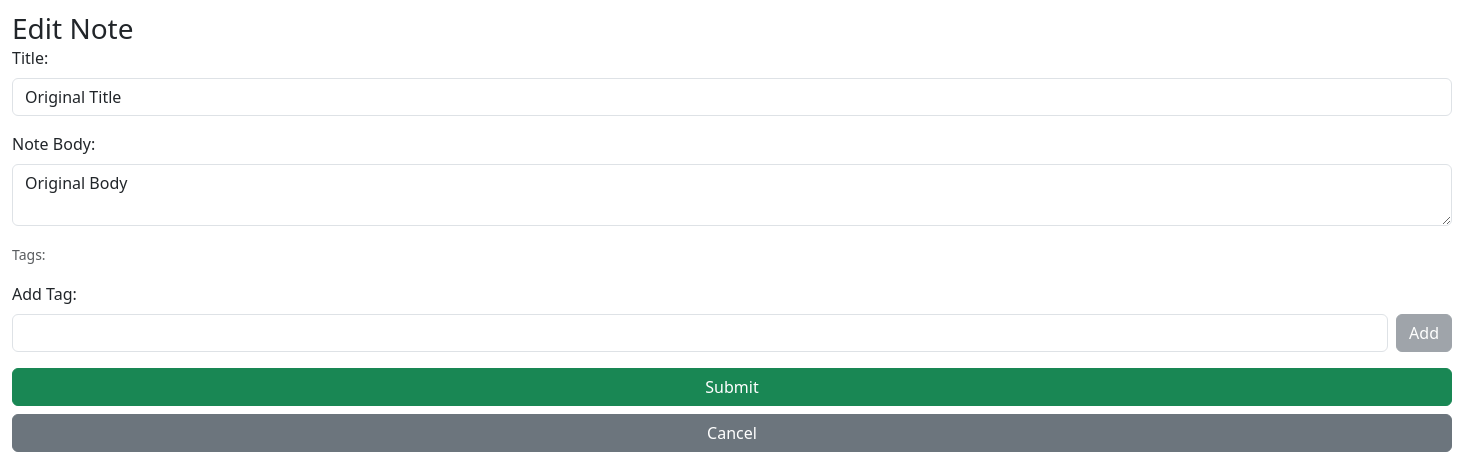
Test case: NoteForm.js › resets form data and hides form when "Cancel" is clicked in edit mode
The image size is (1464, 469).
Replace the text in the field labelled "Title:" with "Changed Title". click: (732, 97)
box: [12,78,1452,116]
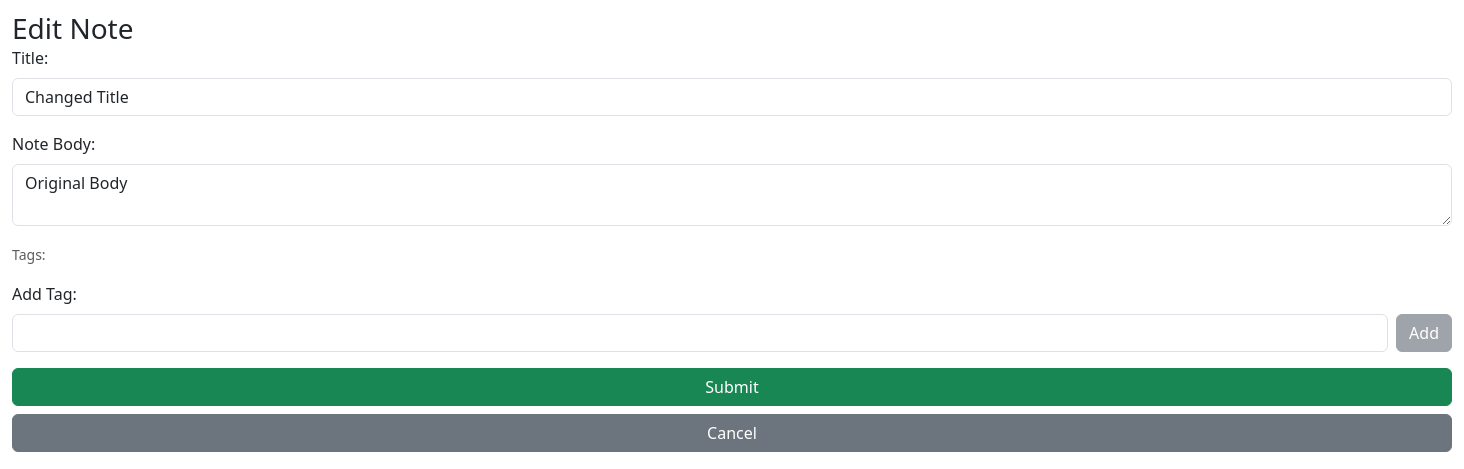
Click the button "Cancel". click: click(732, 433)
box: [12,414,1452,452]
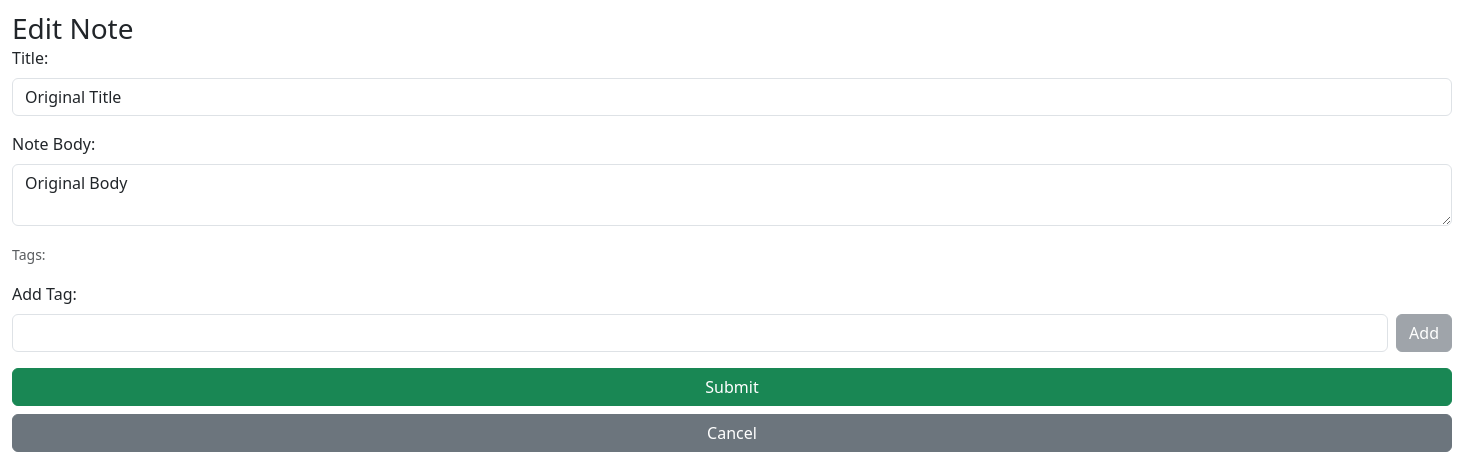
Check: the field labelled "Title:" holds "Original Title", box [12,78,1452,116]
